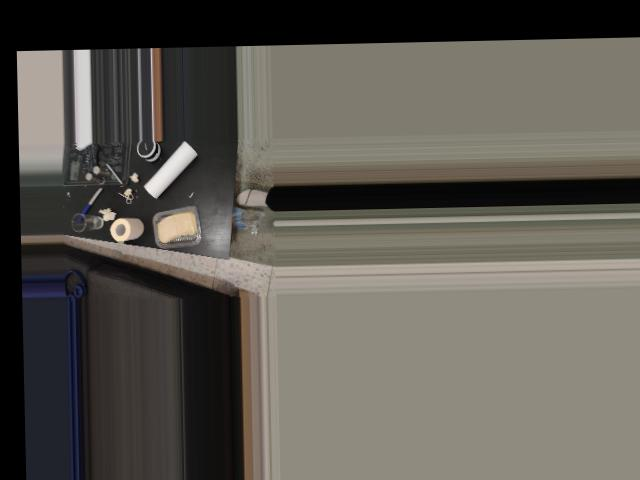cheese: (151, 204, 206, 250)
